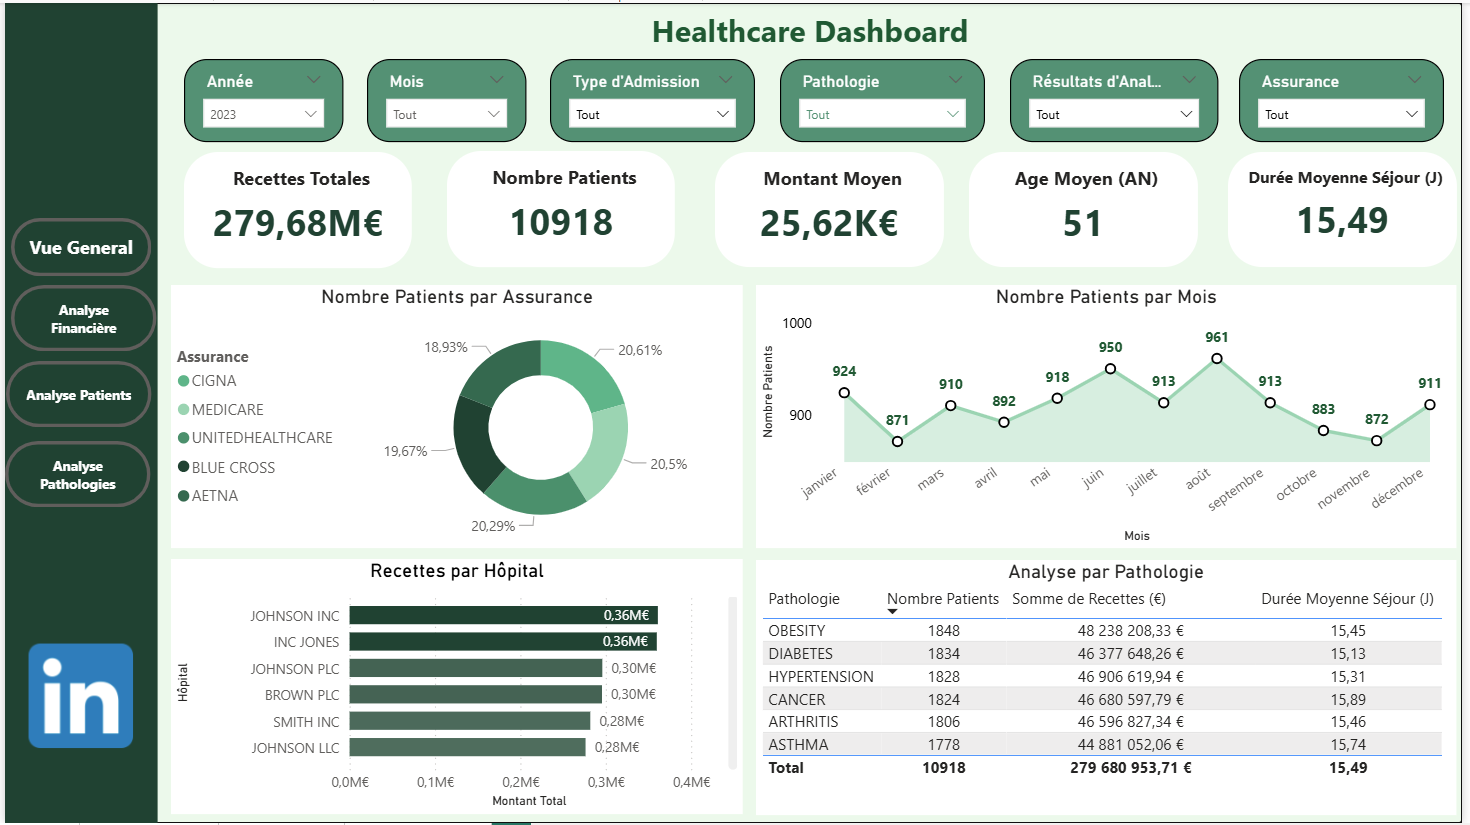

Layout of this report page (visuals, bound fields, positions):
{"tool":"powerbi","page":{"name":"Vue General","canvas":[1280,720],"ordinal":0},"visuals":[{"type":"shape","box":[0,0,134.2,720],"z":0},{"type":"shape","box":[134.2,0,1145.8,60.3],"z":1000},{"type":"textbox","box":[133.2,0,1146.8,59.9],"z":3000},{"type":"slicer","fields":{"Values":["Calendrier.Mois"]},"box":[317.9,49.1,139.7,72.5],"z":4000},{"type":"slicer","fields":{"Values":["healthcare_dataset.Pathologie"]},"box":[680.5,49.1,180.3,72.5],"z":5000},{"type":"slicer","fields":{"Values":["healthcare_dataset.Type d'Admission"]},"box":[478.9,49.1,180.3,72.5],"z":6000},{"type":"slicer","fields":{"Values":["healthcare_dataset.Résultats d'Analyse"]},"box":[882.1,49.1,183.5,72.5],"z":7000},{"type":"slicer","fields":{"Values":["healthcare_dataset.Assurance"]},"box":[1083.7,49.1,180.3,72.5],"z":8000},{"type":"card","title":"Nombre Patients","fields":{"Values":["healthcare_dataset.Nombre Patients"]},"box":[388.1,130,200.2,101.9],"z":9000},{"type":"card","title":"Recettes Totales","fields":{"Values":["Sum(healthcare_dataset.Montant Facturé)"]},"box":[157.2,130.8,200.2,101.9],"z":10000},{"type":"card","title":"Montant Moyen","fields":{"Values":["healthcare_dataset.Montant Moyen"]},"box":[623.6,131.2,200.5,101.3],"z":11000},{"type":"card","title":"Age Moyen (AN)","fields":{"Values":["healthcare_dataset.Age Moyen"]},"box":[846.6,131.2,200.5,101.3],"z":12000},{"type":"card","title":"Durée Moyenne Séjour (J)","fields":{"Values":["healthcare_dataset.Durée Moyenne Séjour"]},"box":[1073.8,131.2,200.5,101.3],"z":13000},{"type":"donutChart","fields":{"Category":["healthcare_dataset.Assurance"],"Y":["healthcare_dataset.Nombre Patients"]},"box":[146.1,247.5,502.4,231.5],"z":14000},{"type":"lineChart","fields":{"Y":["healthcare_dataset.Nombre Patients"],"Category":["Calendrier.Mois"]},"box":[659.2,247.5,615.5,231.5],"z":15000},{"type":"slicer","fields":{"Values":["Calendrier.Année"]},"box":[156.8,49.1,139.7,72.5],"z":16000},{"type":"clusteredBarChart","title":"Recettes par Hôpital","fields":{"Category":["healthcare_dataset.Hôpital"],"Y":["healthcare_dataset.Montant Total"]},"box":[146.1,488.5,502.4,224],"z":17000},{"type":"tableEx","title":"Analyse par Pathologie","fields":{"Values":["healthcare_dataset.Pathologie","healthcare_dataset.Nombre Patients","Sum(healthcare_dataset.Montant Total Facturé)","healthcare_dataset.Durée Moyenne Séjour"]},"box":[659,489,615,224],"z":18000},{"type":"actionButton","title":"Vue General","box":[5.3,188.5,123.3,51.1],"z":18001},{"type":"actionButton","title":"Vue General","box":[5.3,247.5,127.7,58.1],"z":18002},{"type":"actionButton","title":"Vue General","box":[0.9,314.4,127.7,58.1],"z":18003},{"type":"actionButton","title":"Vue General","box":[0,384.9,127.7,58.1],"z":18004},{"type":"actionButton","box":[16.9,558.5,99.8,100.7],"z":18005}]}

Visuals, with their boxes in screenshot pixels (x1, y1, x2, y2), scaled from the page's 1280x720 canvas onto the 1470x825 screenshot:
shape: crop(0, 0, 154, 824)
shape: crop(154, 0, 1469, 69)
textbox: crop(153, 0, 1469, 69)
slicer - Calendrier.Mois: crop(365, 56, 526, 139)
slicer - healthcare_dataset.Pathologie: crop(782, 56, 989, 139)
slicer - healthcare_dataset.Type d'Admission: crop(550, 56, 757, 139)
slicer - healthcare_dataset.Résultats d'Analyse: crop(1013, 56, 1224, 139)
slicer - healthcare_dataset.Assurance: crop(1245, 56, 1452, 139)
"Nombre Patients" card: crop(446, 149, 676, 266)
"Recettes Totales" card: crop(181, 150, 410, 267)
"Montant Moyen" card: crop(716, 150, 946, 266)
"Age Moyen (AN)" card: crop(972, 150, 1203, 266)
"Durée Moyenne Séjour (J)" card: crop(1233, 150, 1463, 266)
donutChart - healthcare_dataset.Assurance x healthcare_dataset.Nombre Patients: crop(168, 284, 745, 549)
lineChart - healthcare_dataset.Nombre Patients x Calendrier.Mois: crop(757, 284, 1464, 549)
slicer - Calendrier.Année: crop(180, 56, 341, 139)
"Recettes par Hôpital" clusteredBarChart: crop(168, 560, 745, 816)
"Analyse par Pathologie" tableEx: crop(757, 560, 1463, 817)
"Vue General" actionButton: crop(6, 216, 148, 275)
"Vue General" actionButton: crop(6, 284, 153, 350)
"Vue General" actionButton: crop(1, 360, 148, 427)
"Vue General" actionButton: crop(0, 441, 147, 508)
actionButton: crop(19, 640, 134, 755)
